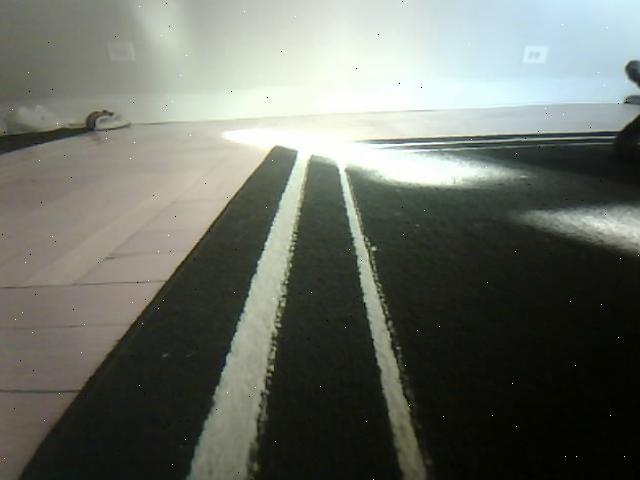road-line: (178, 169, 309, 480), (342, 192, 432, 480)
